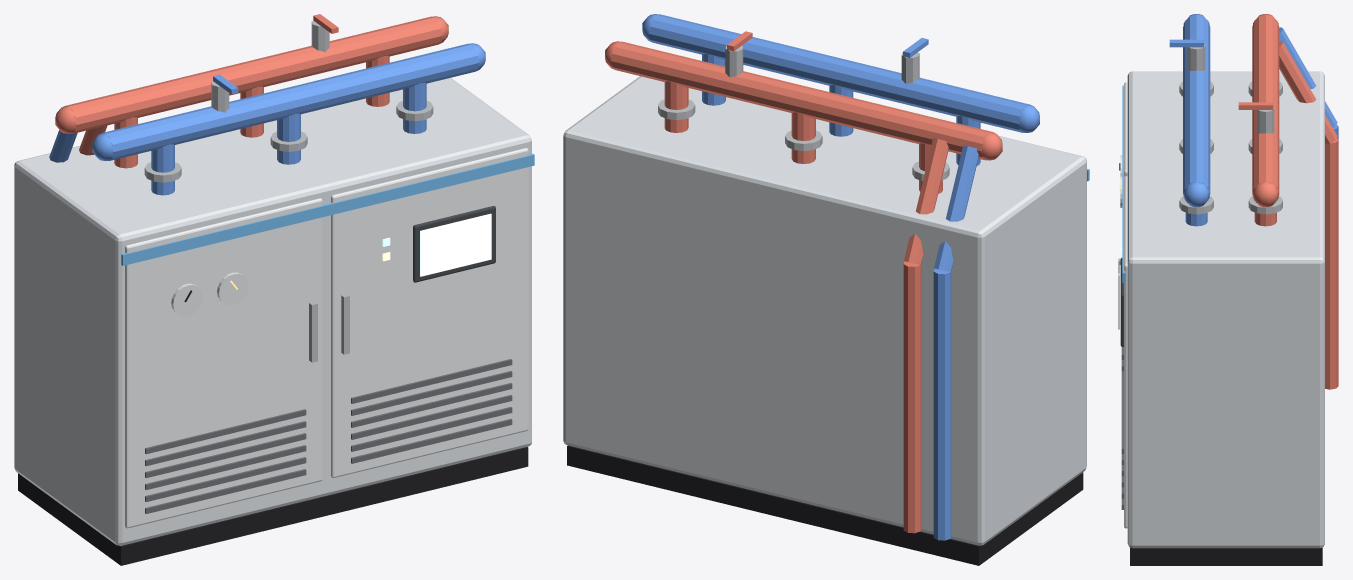
The model's file is liquid.fbx.
3 renders of one model, left to right at view 1: azimuth 30°, elevation 25°; view 2: azimuth 150°, elevation 25°; view 3: azimuth 270°, elevation 25°, orthographic. The views are drawn at different scales.
Parts seen in each view (by area): view 1: liquid; view 2: liquid; view 3: liquid.
Part boxes in pixels (bbox=[...]): liquid: bbox=[14, 14, 534, 565]; liquid: bbox=[563, 14, 1089, 565]; liquid: bbox=[1118, 14, 1338, 565].
Bounding box in the file's own units: 1.82 × 1.79 × 0.8925.
